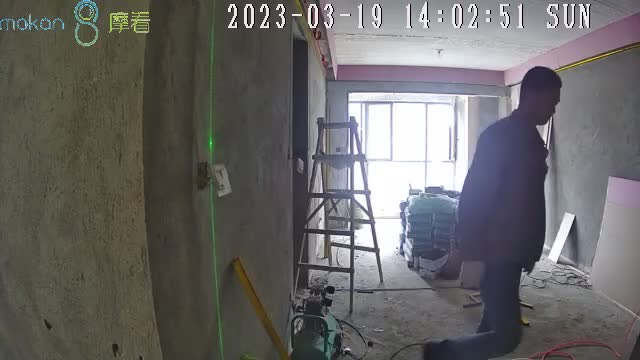people: (423, 66, 563, 360)
window: (348, 93, 459, 206)
